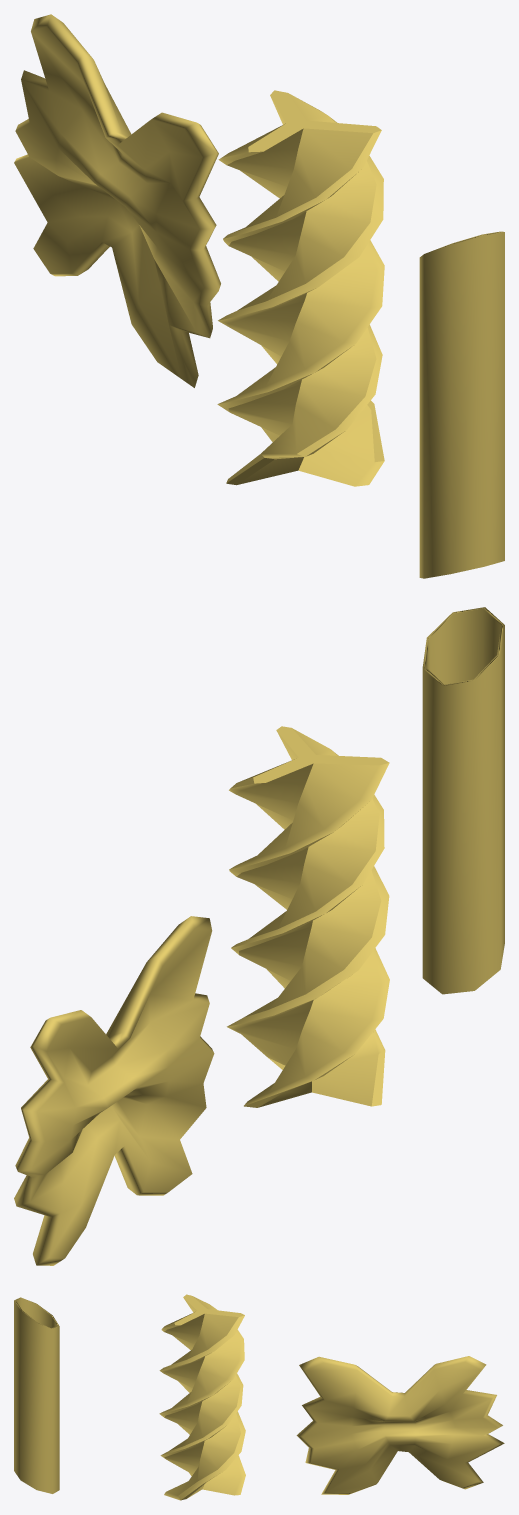
The model's file is Obstacle-Set-4.fbx.
3 renders of one model, top to bottom at view 1: azimuth 30°, elevation 25°; view 2: azimuth 150°, elevation 25°; view 3: azimuth 270°, elevation 25°, orthographic. The views are drawn at different scales.
Parts seen in each view (by area): view 1: pasta2, pasta1, pasta3; view 2: pasta2, pasta1, pasta3; view 3: pasta1, pasta2, pasta3.
Boxes of the visible parts, x1,y1,x2,y2 form: pasta2: [217, 90, 384, 486]; pasta1: [14, 14, 220, 387]; pasta3: [419, 231, 504, 578]; pasta2: [227, 726, 389, 1107]; pasta1: [14, 916, 214, 1265]; pasta3: [422, 607, 504, 994]; pasta1: [296, 1356, 504, 1494]; pasta2: [159, 1294, 245, 1500]; pasta3: [14, 1297, 59, 1493].
Size of the model in its own units: 0.2558 by 0.6114 by 1.41.
